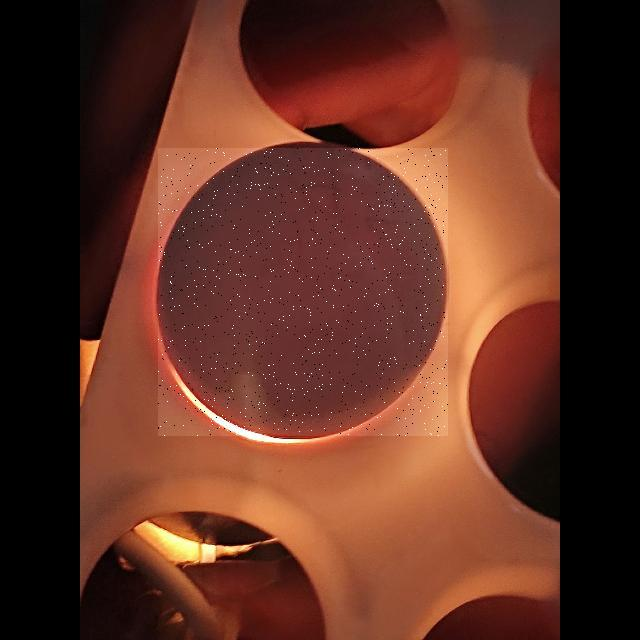Fertile: (158, 148, 448, 436)
